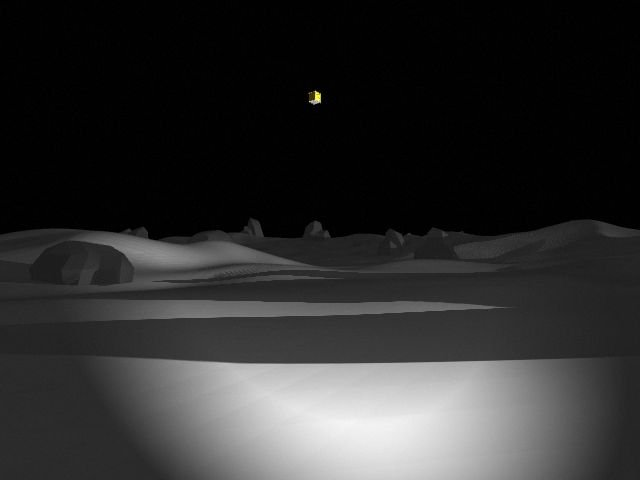cubesat: (302, 89, 325, 107)
